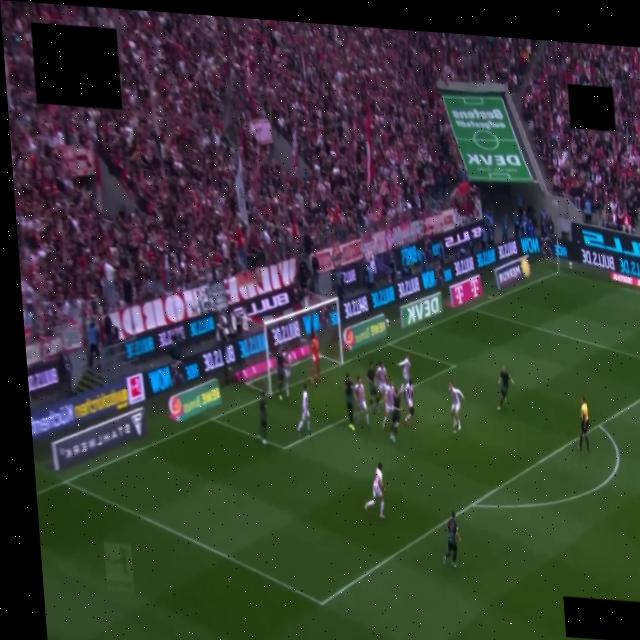player: (364, 463, 383, 519), (442, 511, 459, 567), (255, 390, 270, 445), (353, 377, 369, 426), (448, 383, 463, 431), (498, 366, 513, 410), (297, 384, 309, 435), (389, 387, 400, 442), (367, 361, 379, 409), (344, 374, 354, 431), (382, 382, 393, 430), (402, 378, 413, 425), (375, 361, 387, 400), (310, 333, 319, 384), (276, 348, 284, 400), (397, 355, 410, 383), (282, 352, 290, 397)
referee: (578, 396, 588, 452)
